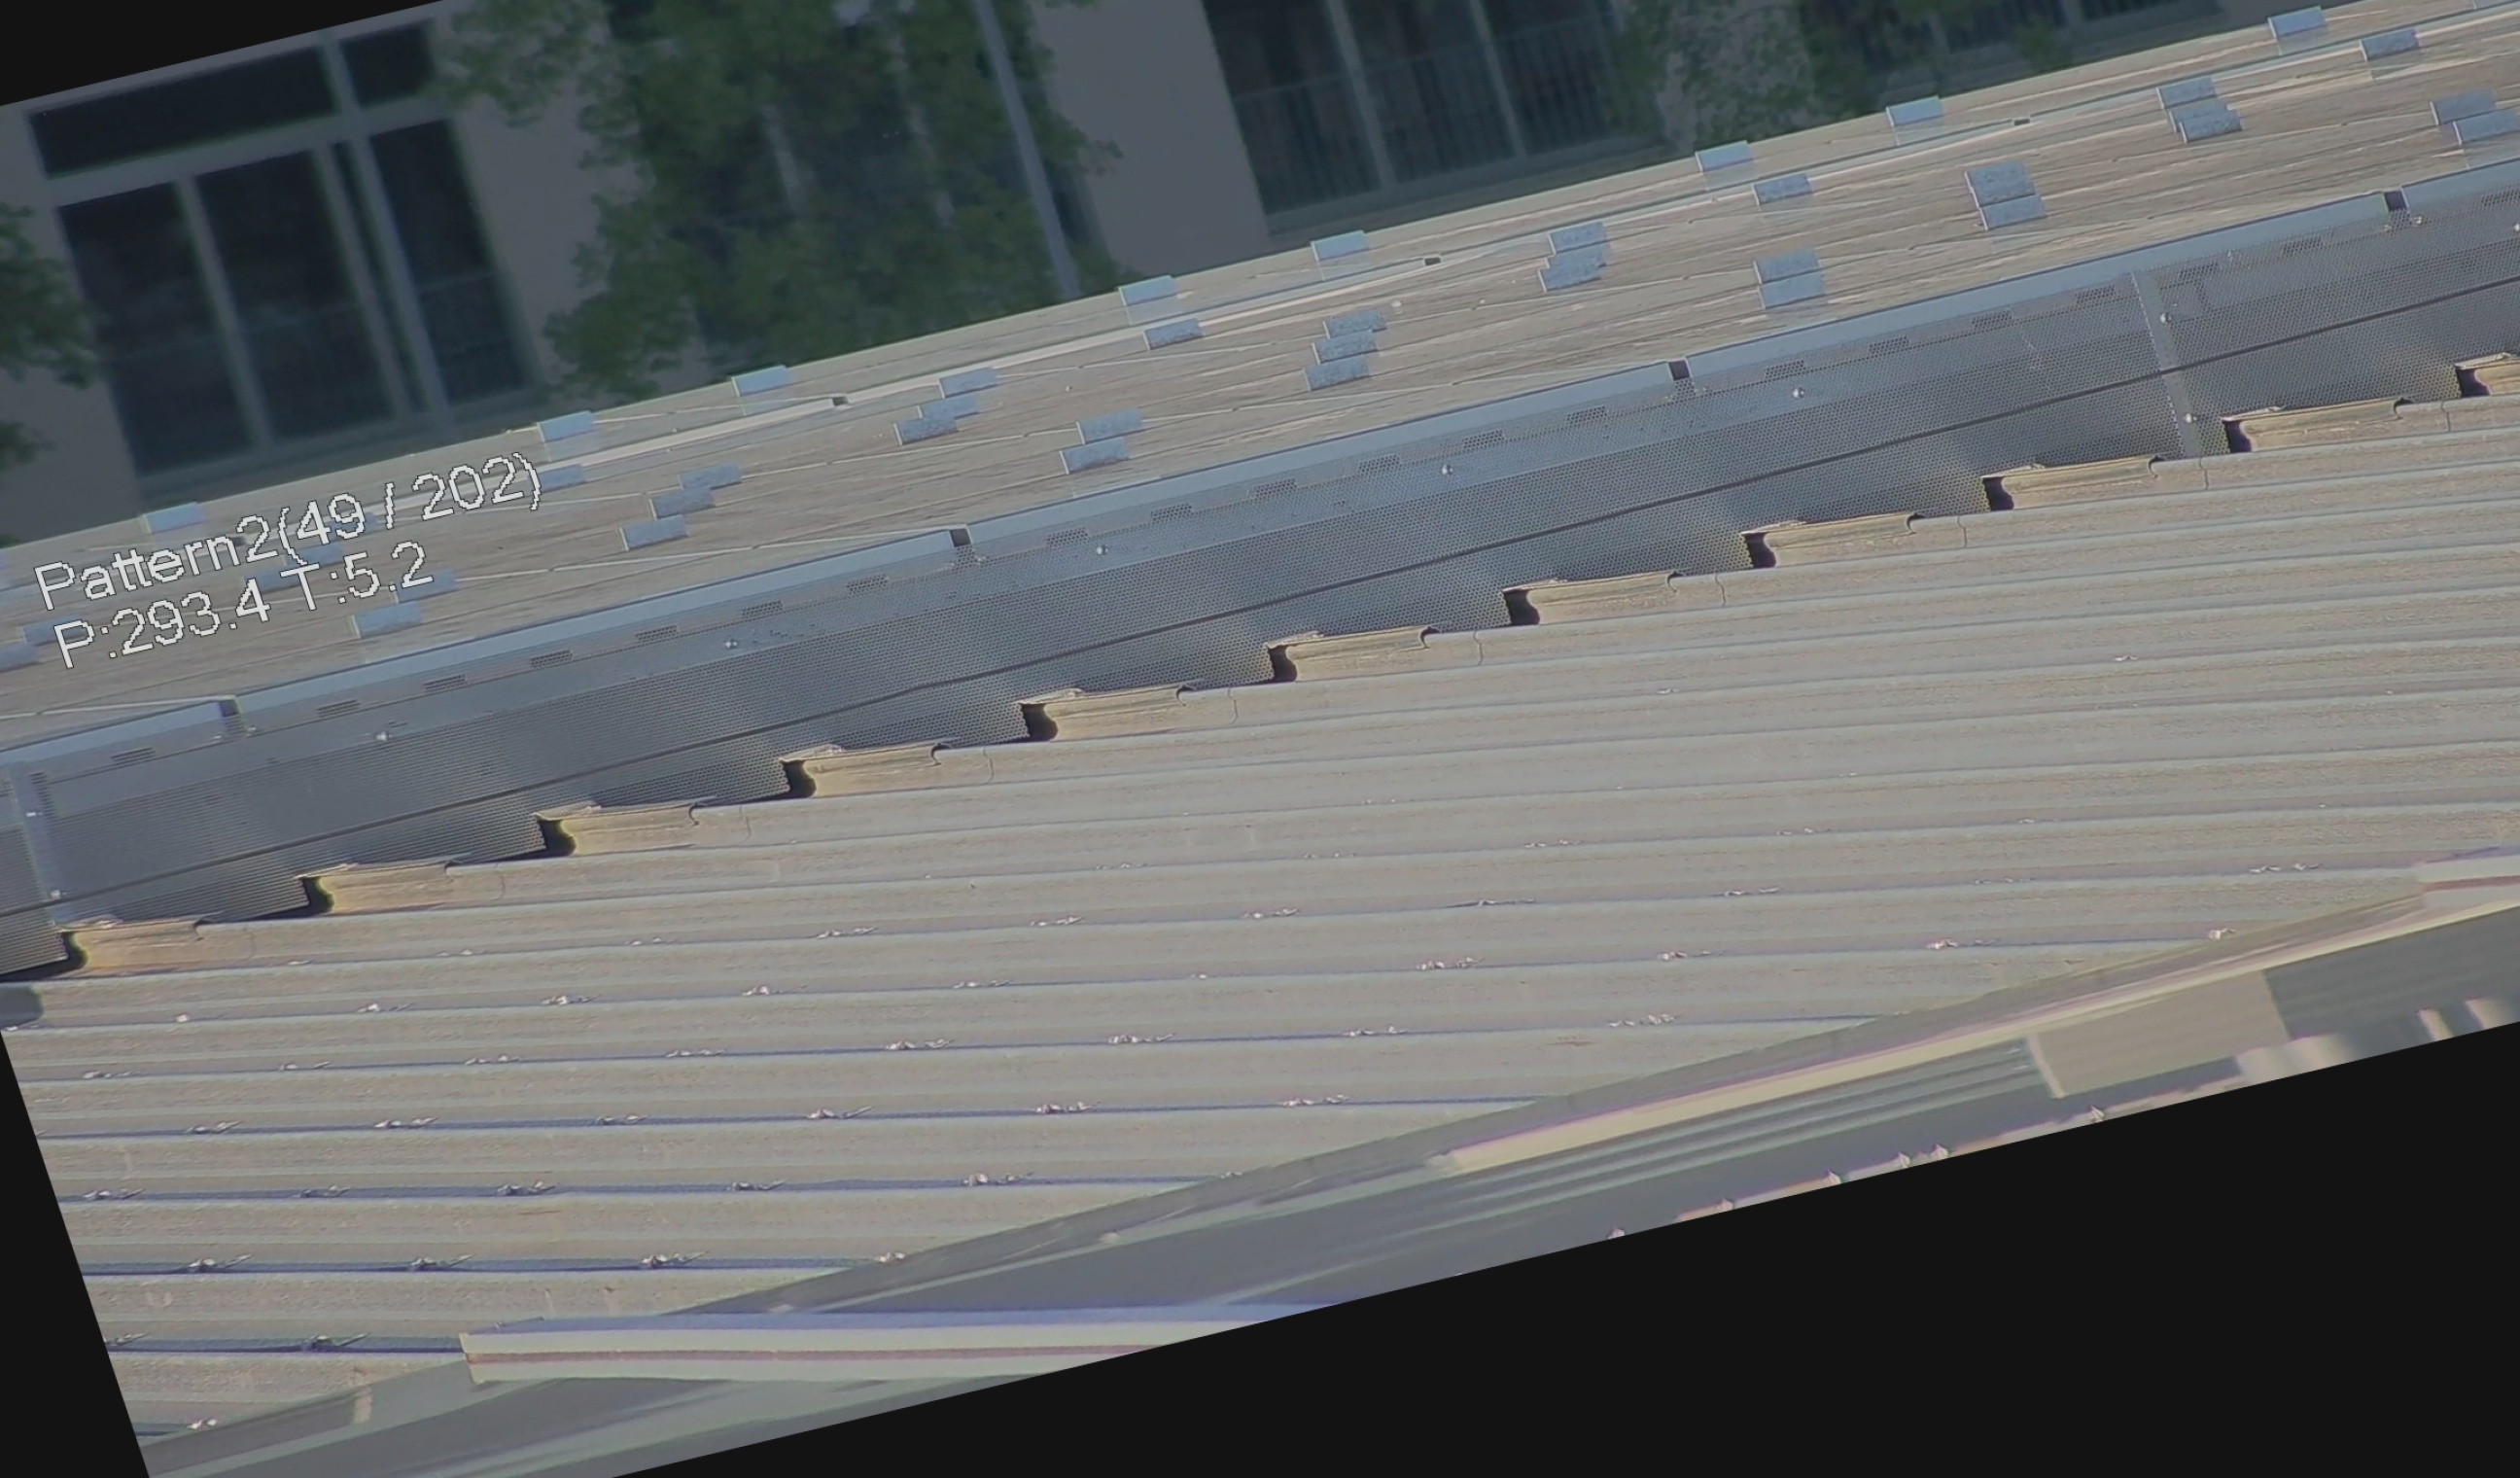Other: (489, 801, 575, 873)
